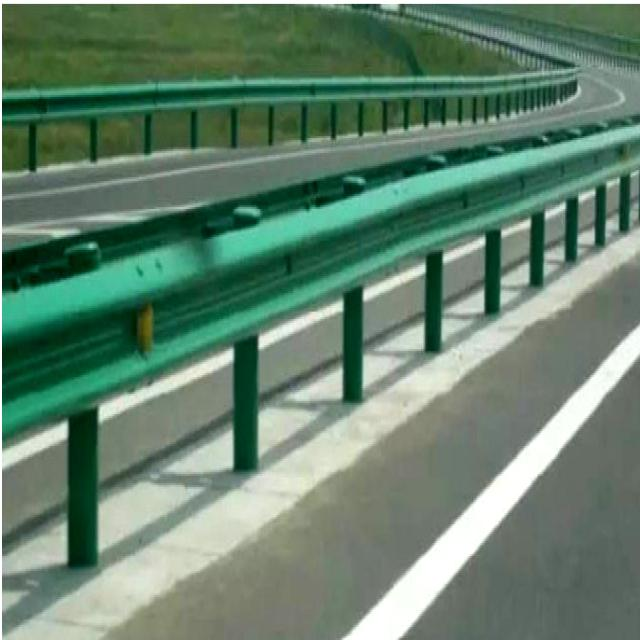Guard rail: (2, 126, 640, 438), (2, 66, 578, 170)
